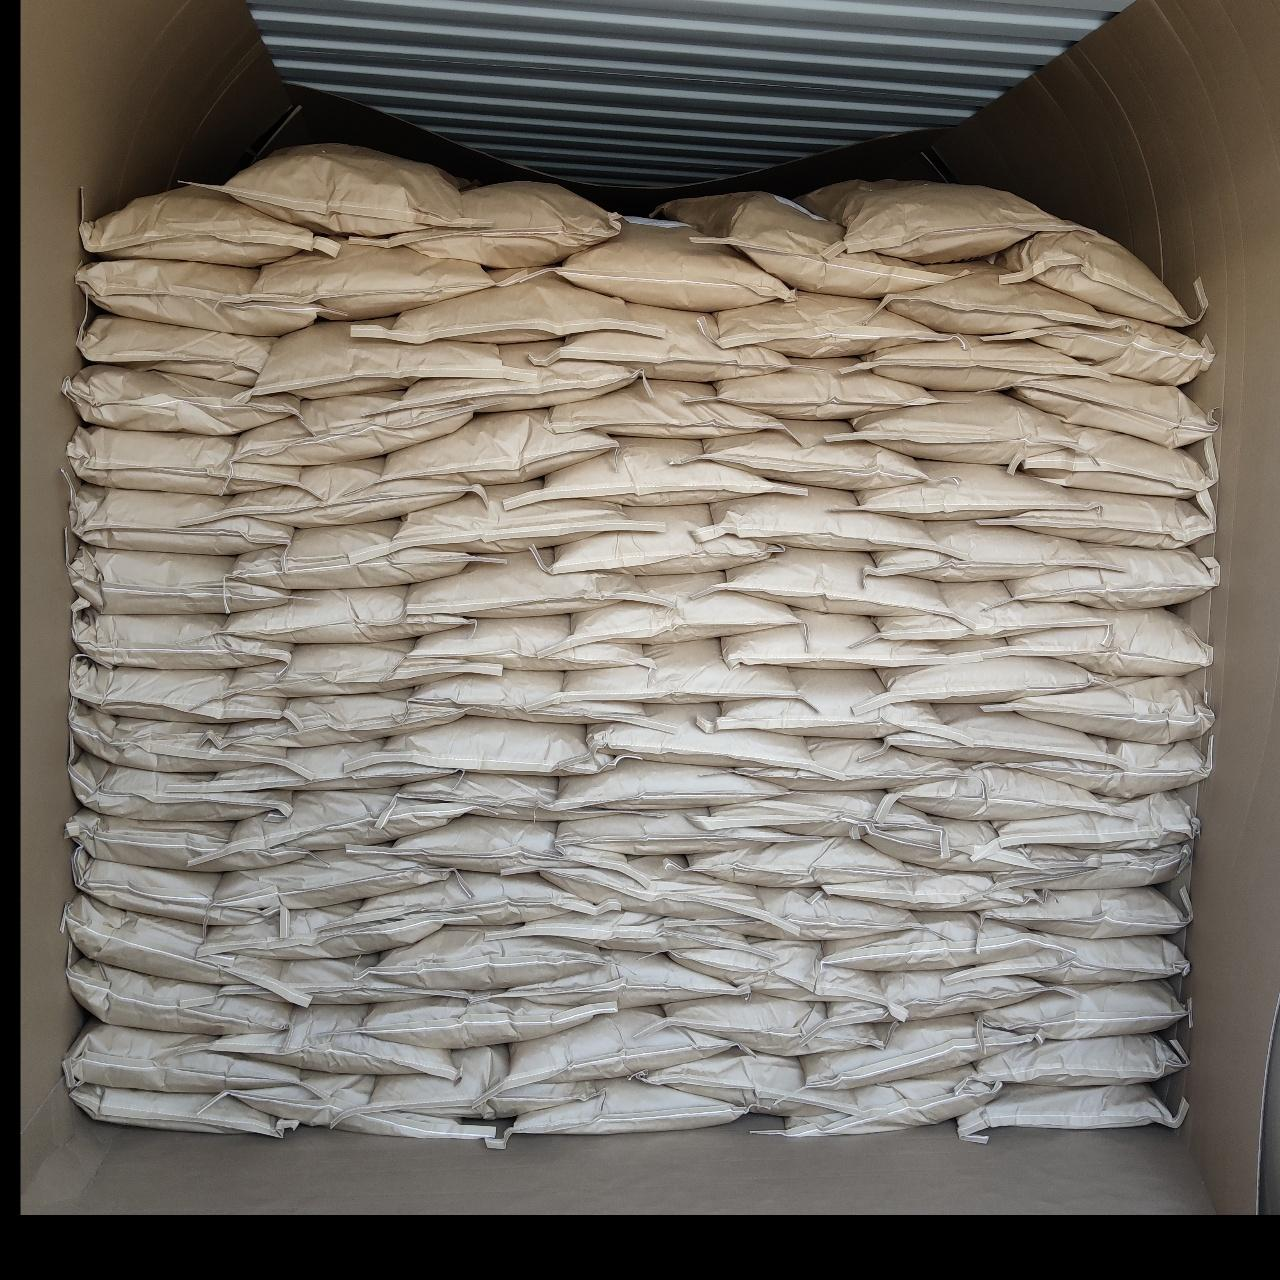sack: (654, 192, 946, 294), (62, 894, 315, 1006), (210, 144, 467, 234), (802, 181, 1084, 260), (354, 270, 660, 342), (493, 1008, 728, 1098), (994, 226, 1204, 326), (558, 222, 790, 309), (386, 182, 620, 268), (510, 440, 802, 508), (244, 322, 504, 399), (80, 184, 332, 263), (246, 240, 496, 318), (226, 1073, 504, 1142), (386, 482, 648, 550), (550, 306, 788, 380), (222, 459, 484, 526), (63, 1020, 300, 1094), (207, 1008, 454, 1078), (80, 260, 312, 334), (382, 410, 614, 484), (880, 260, 1112, 334), (568, 572, 792, 648), (828, 394, 1078, 462), (232, 522, 486, 588), (396, 343, 638, 414), (354, 818, 636, 878), (70, 958, 288, 1034), (522, 856, 764, 924), (408, 552, 672, 614), (232, 394, 470, 462), (802, 1016, 1034, 1085), (556, 640, 804, 704), (544, 506, 778, 574), (368, 1048, 594, 1118), (411, 669, 678, 729), (66, 808, 312, 872), (68, 425, 300, 493), (764, 1065, 996, 1133), (676, 422, 920, 486), (226, 790, 445, 862), (72, 482, 290, 552), (64, 365, 298, 430), (981, 678, 1212, 743), (697, 488, 940, 550), (72, 702, 284, 772), (706, 672, 944, 734), (72, 753, 288, 821), (722, 549, 946, 614), (872, 640, 1108, 702), (72, 544, 286, 612), (712, 294, 942, 356), (376, 926, 598, 990), (1012, 376, 1214, 445), (588, 704, 810, 768), (710, 358, 940, 418), (870, 524, 1118, 580), (890, 704, 1118, 765), (1016, 430, 1214, 501), (72, 656, 284, 722), (232, 642, 501, 694), (978, 490, 1213, 549), (550, 380, 784, 438), (216, 850, 445, 910), (224, 586, 468, 642), (638, 1051, 850, 1116), (818, 971, 1056, 1028), (72, 606, 290, 668), (874, 583, 1110, 640), (856, 461, 1091, 518), (1002, 318, 1212, 382), (668, 940, 878, 1005), (498, 952, 748, 1006), (74, 855, 268, 924), (200, 903, 444, 958), (694, 792, 942, 846), (506, 1080, 744, 1136), (864, 819, 1101, 876), (1008, 610, 1210, 674), (724, 610, 946, 668), (408, 618, 654, 670), (856, 336, 1094, 390), (220, 954, 469, 1006), (200, 740, 454, 790), (362, 994, 610, 1046), (890, 765, 1121, 821), (384, 719, 614, 774), (1008, 546, 1218, 606), (822, 914, 1044, 971), (80, 314, 270, 380), (358, 872, 598, 924), (662, 996, 878, 1054), (546, 760, 790, 810), (222, 694, 458, 745), (960, 1084, 1184, 1138), (978, 982, 1189, 1039), (992, 792, 1198, 850), (736, 740, 966, 790), (704, 888, 922, 940), (946, 937, 1189, 982), (70, 1084, 292, 1133), (976, 1034, 1186, 1084), (682, 838, 900, 886), (978, 888, 1190, 937), (558, 812, 790, 855), (394, 774, 594, 822), (822, 866, 1039, 910), (1051, 740, 1208, 796), (1000, 844, 1190, 888), (508, 914, 745, 949)
